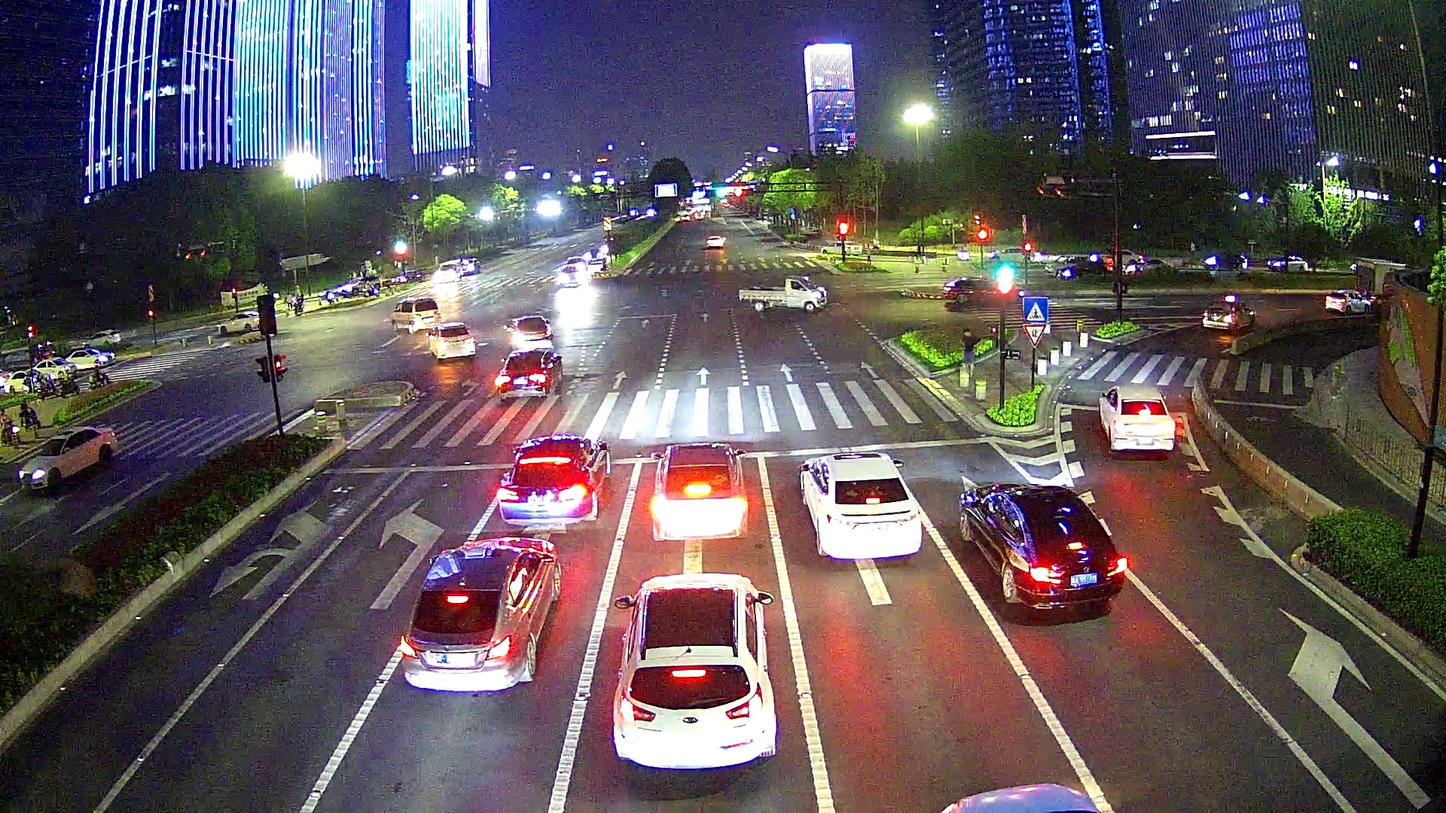vehicle: (601, 568, 781, 774), (393, 534, 563, 696), (951, 478, 1128, 609), (796, 447, 927, 563), (492, 431, 613, 530), (648, 439, 752, 543), (16, 422, 120, 489), (1094, 382, 1179, 457), (734, 273, 828, 316), (493, 343, 560, 400), (425, 319, 474, 358), (390, 294, 439, 331), (502, 314, 553, 343), (69, 347, 116, 369)
